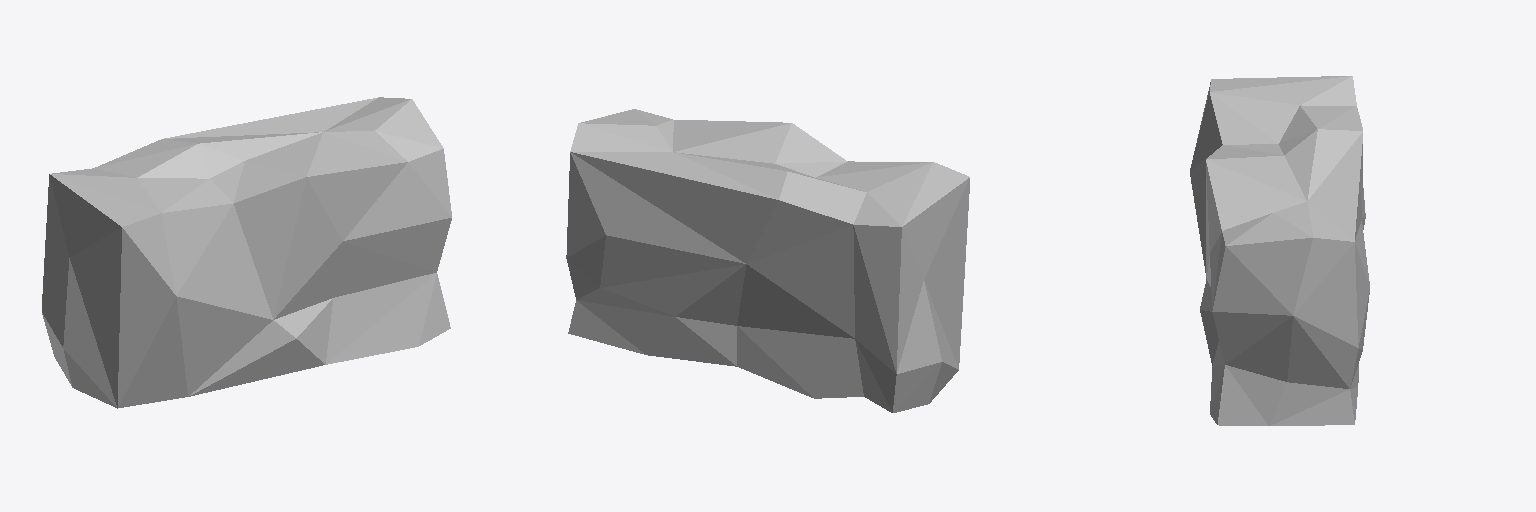
File: rock_column_3x1_small.obj
3 views of the same model, side by side, from view 1: azimuth 30°, elevation 25°; view 2: azimuth 150°, elevation 25°; view 3: azimuth 270°, elevation 25° (orthographic).
Visible parts, largest first — view 1: rock_column_3x1_small_Cube.002; view 2: rock_column_3x1_small_Cube.002; view 3: rock_column_3x1_small_Cube.002.
Boxes of the visible parts, box(x1,y1,x2,y2) form: rock_column_3x1_small_Cube.002: box(42, 97, 451, 408); rock_column_3x1_small_Cube.002: box(566, 109, 969, 412); rock_column_3x1_small_Cube.002: box(1190, 76, 1369, 425).
Bounding box in the file's own units: 7.13 × 4.01 × 3.04.